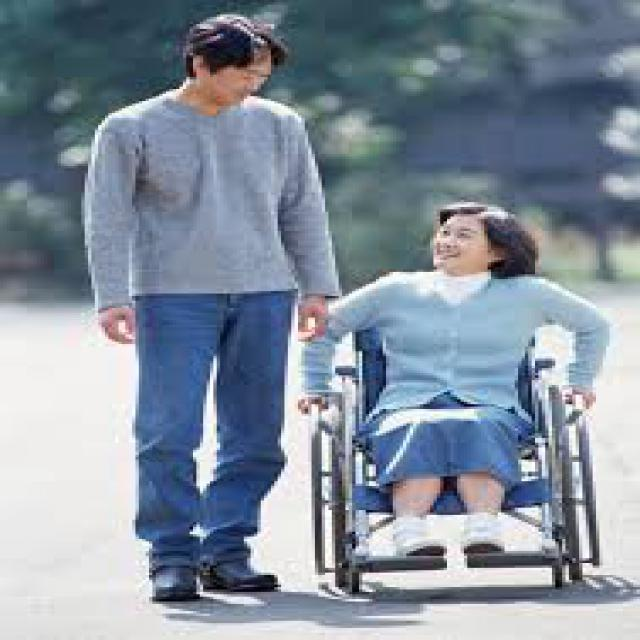wheelchairs: (291, 318, 623, 596)
